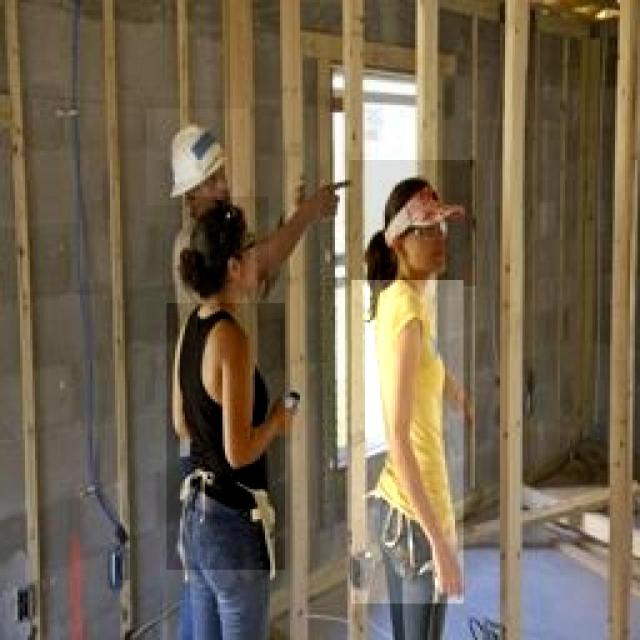Helmet: (352, 280, 464, 604), (167, 304, 285, 571), (348, 160, 476, 286), (180, 196, 268, 324), (146, 108, 250, 205)
